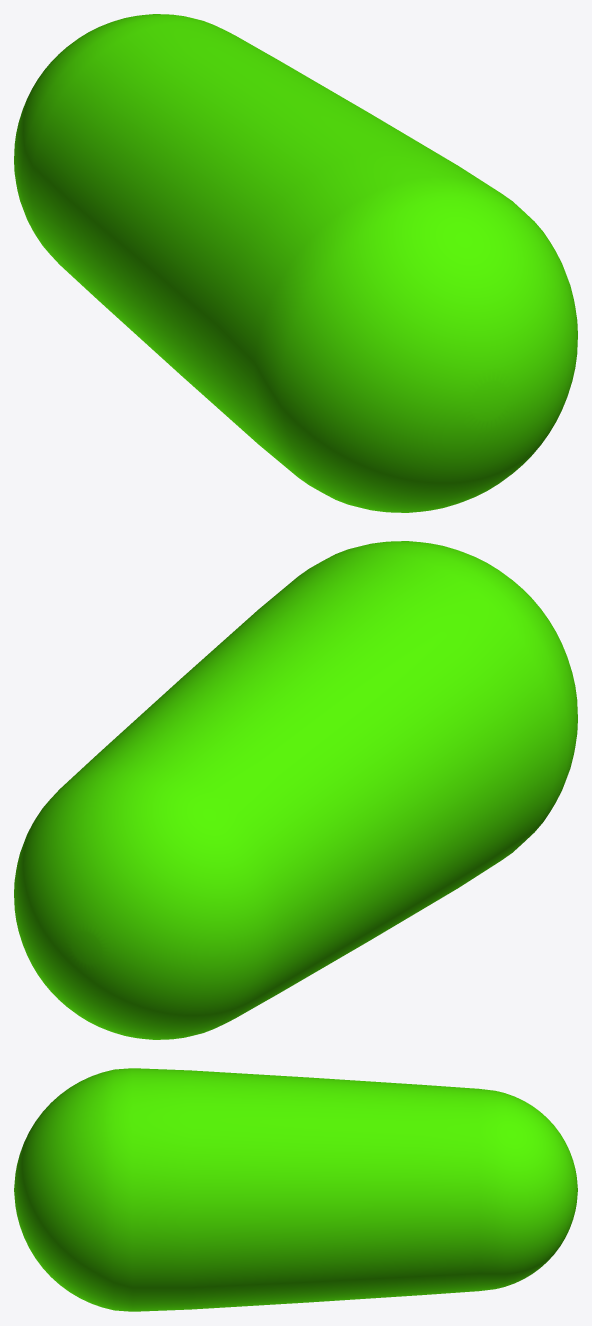
File: SpiritHand.glb
3 views of the same model, one above another, from view 1: azimuth 30°, elevation 25°; view 2: azimuth 150°, elevation 25°; view 3: azimuth 270°, elevation 25° (orthographic). The views are drawn at different scales.
Parts seen in each view (by area): view 1: Sphere; view 2: Sphere; view 3: Sphere.
Boxes of the visible parts, left/top/right/bottom form: Sphere: left=14, top=14, right=577, bottom=512; Sphere: left=14, top=541, right=577, bottom=1039; Sphere: left=14, top=1068, right=577, bottom=1311.
Size of the model in its own units: 0.4755 by 0.4755 by 1.1.
